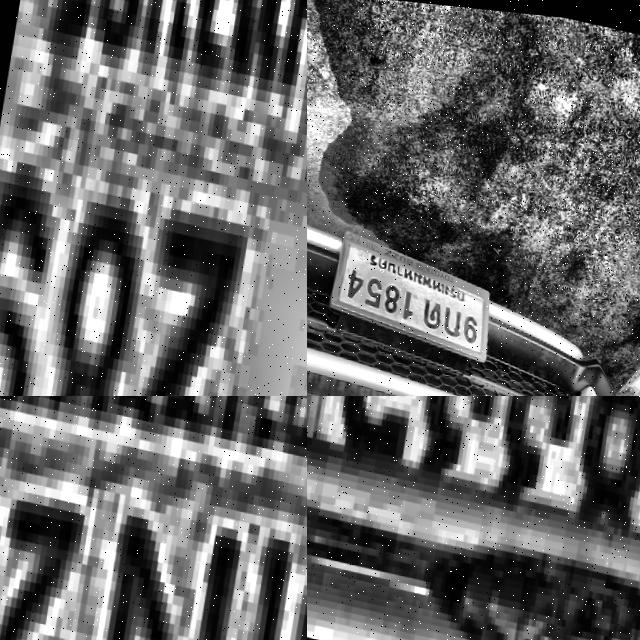license-plate: (0, 0, 307, 396), (307, 396, 640, 640), (0, 396, 307, 640), (327, 222, 504, 360)
